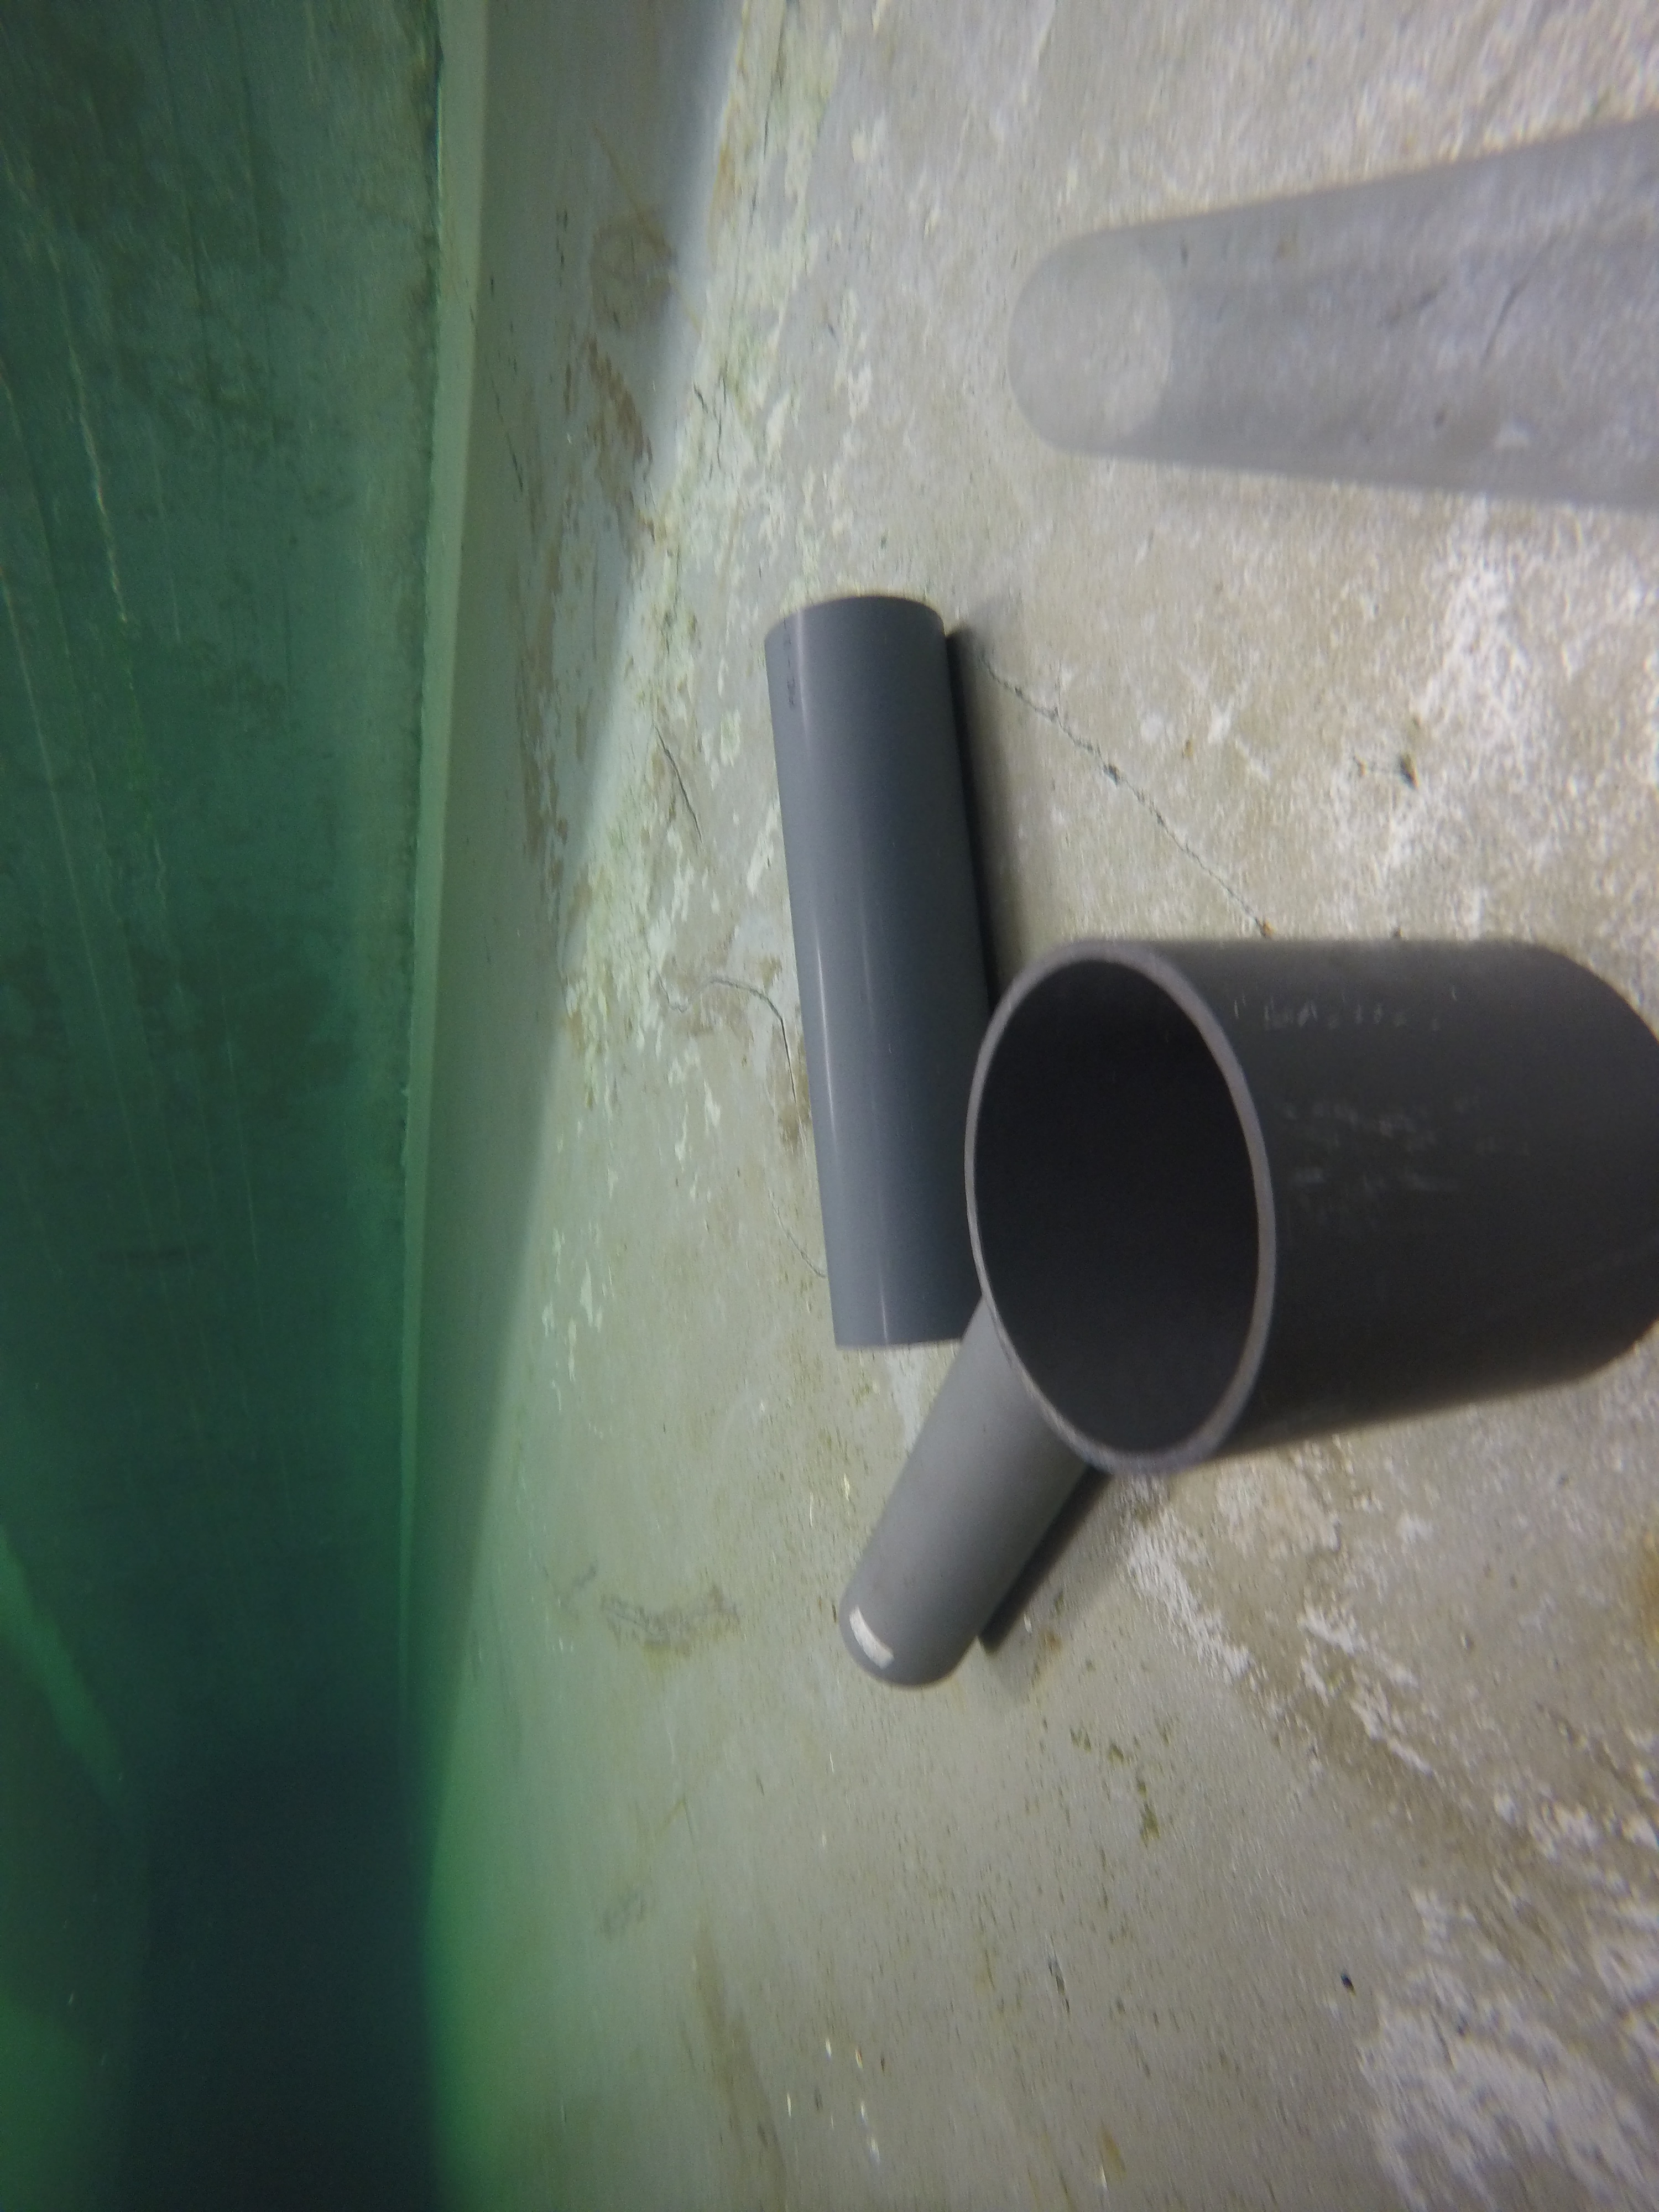pipe: (958, 939, 1659, 1480), (1006, 108, 1659, 514), (762, 592, 972, 1345), (838, 1306, 1087, 1688)
